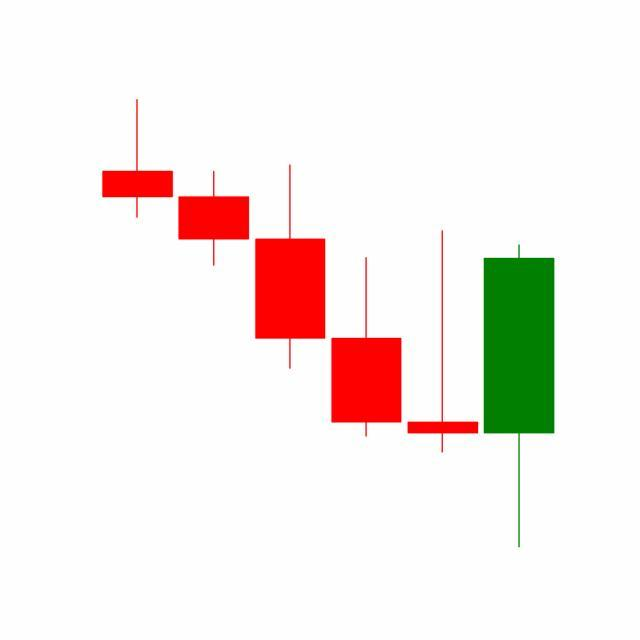Spinning Top: (404, 229, 482, 456)
